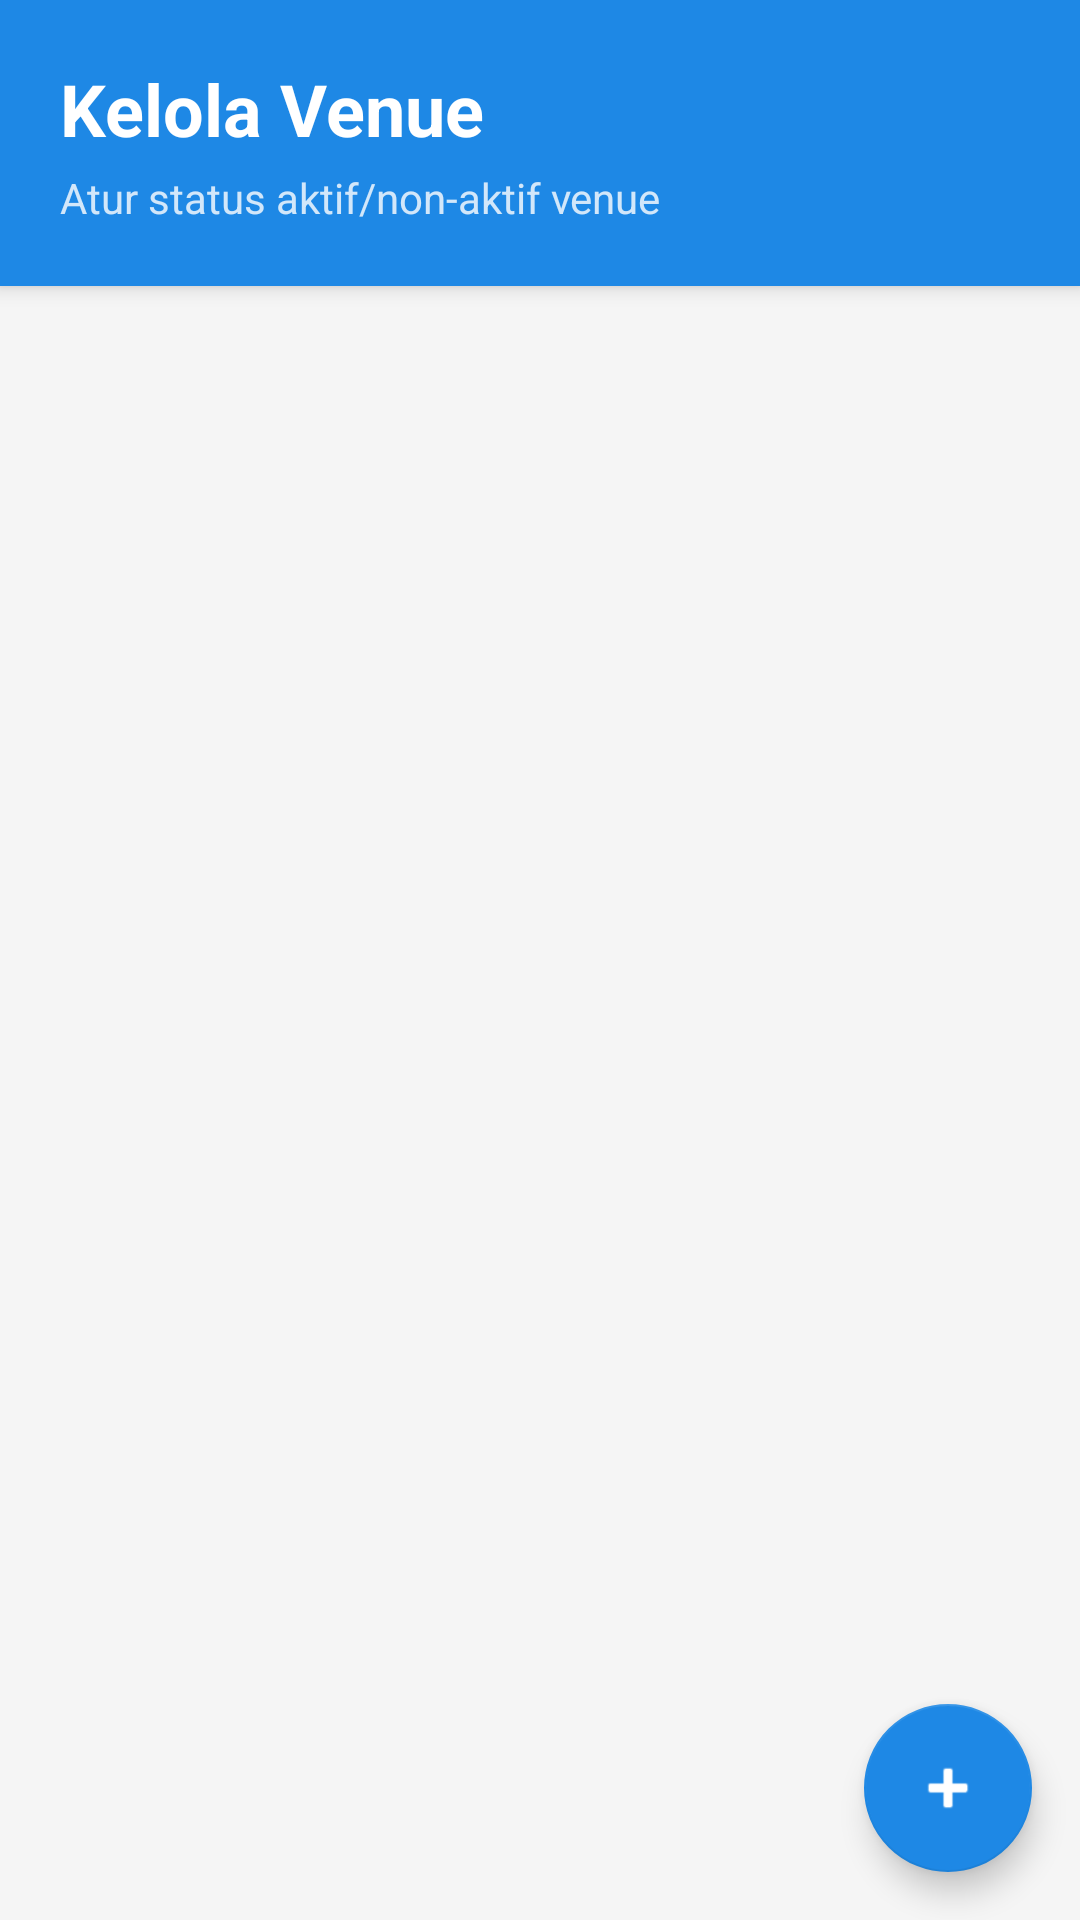

Screen size 1080w x 1920h. Icon name, then its center in pixels as [x,y]:
Tambah Venue: [948,1788]
